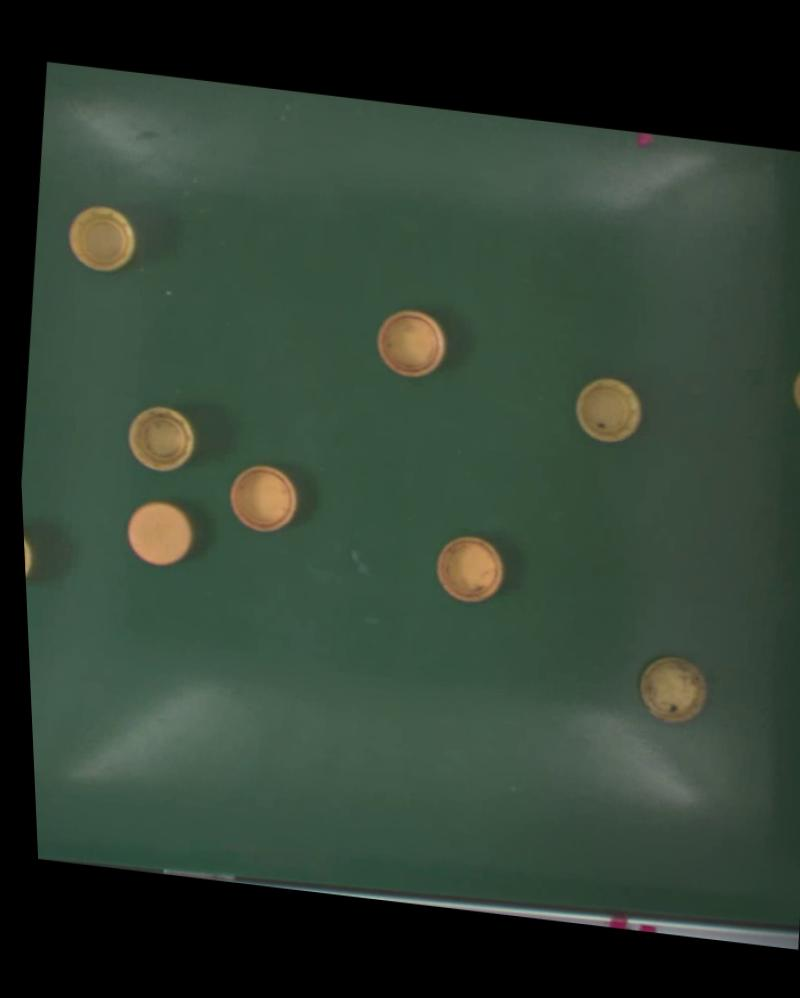others: (372, 305, 451, 380), (635, 652, 712, 728), (63, 201, 142, 275), (224, 461, 303, 535), (432, 532, 509, 606), (571, 372, 647, 446), (121, 496, 196, 569), (124, 401, 199, 474), (785, 353, 800, 423), (23, 526, 37, 593)
